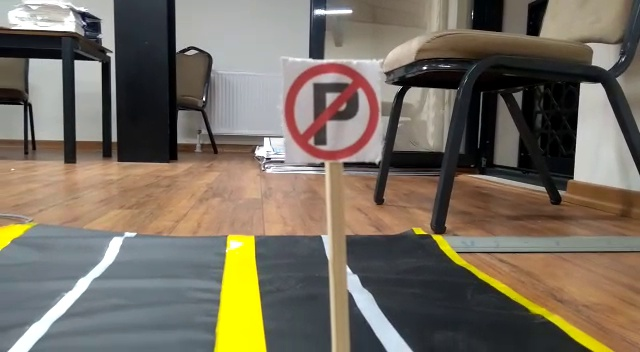park_yapilmaz: (279, 56, 377, 167)
